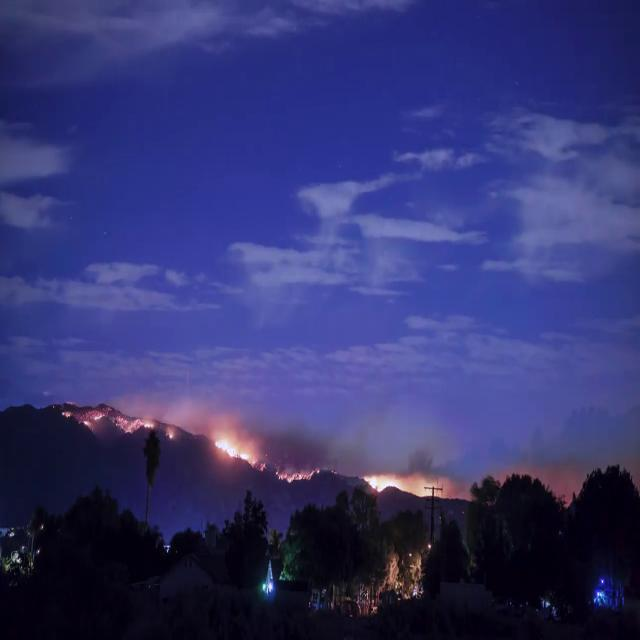Fire: (214, 434, 266, 474), (56, 398, 109, 435), (112, 405, 154, 435), (362, 468, 404, 490), (276, 460, 316, 482), (163, 426, 176, 440)
Smoke: (114, 386, 448, 478)
